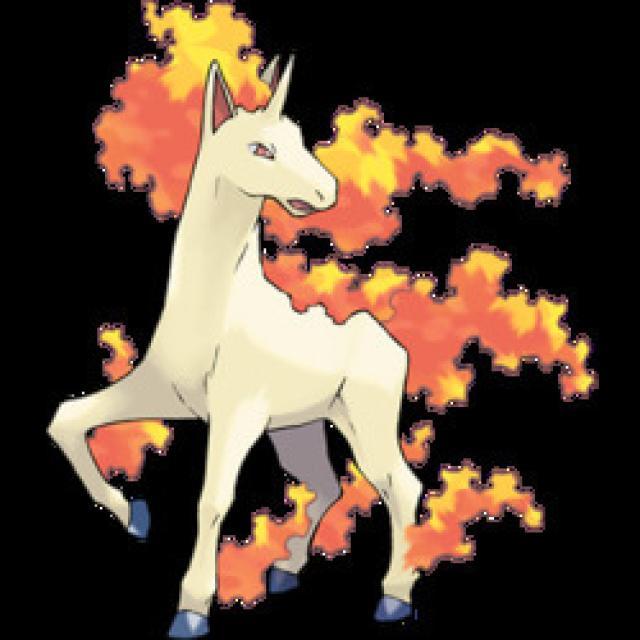Rapidash: (98, 2, 445, 640)
